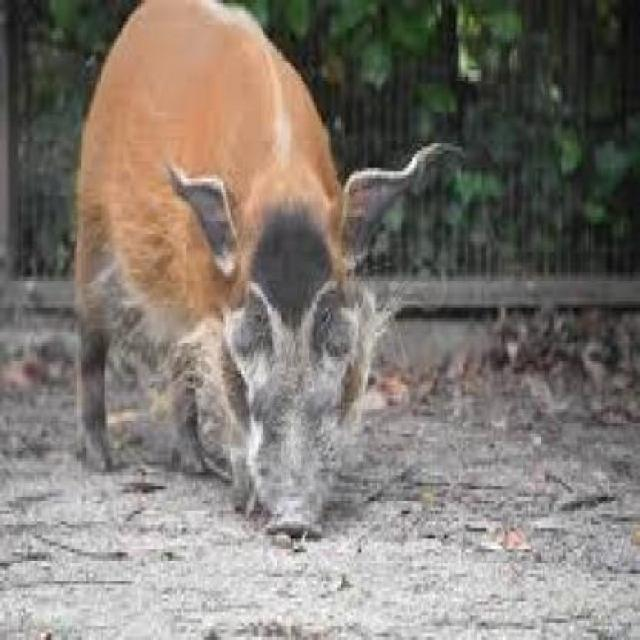wildboar: (60, 0, 451, 555)
